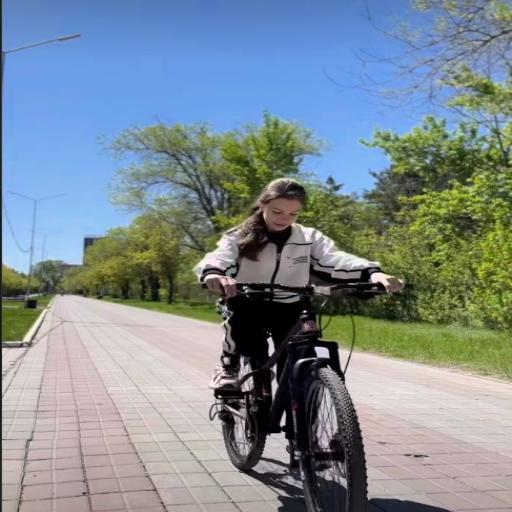bag: (210, 283, 386, 512)
